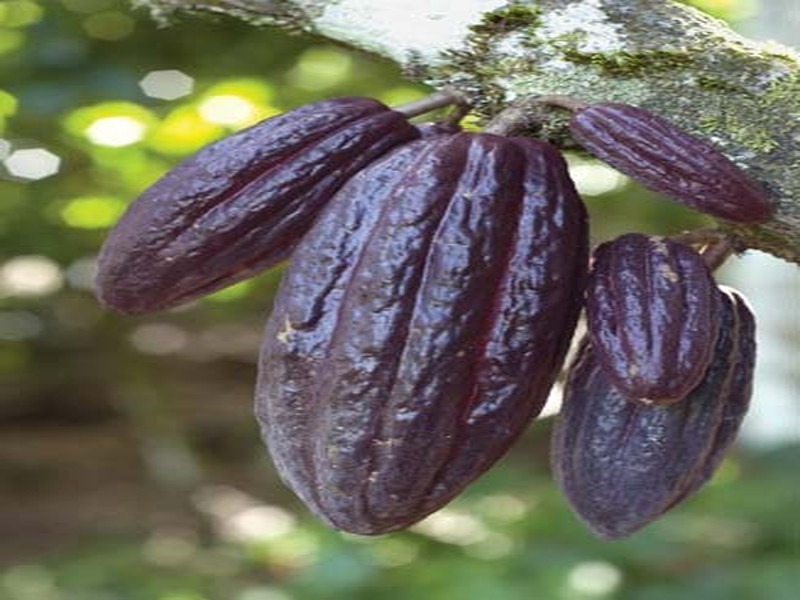Cacaopod: (253, 131, 589, 534), (90, 97, 424, 319), (550, 247, 760, 544)
